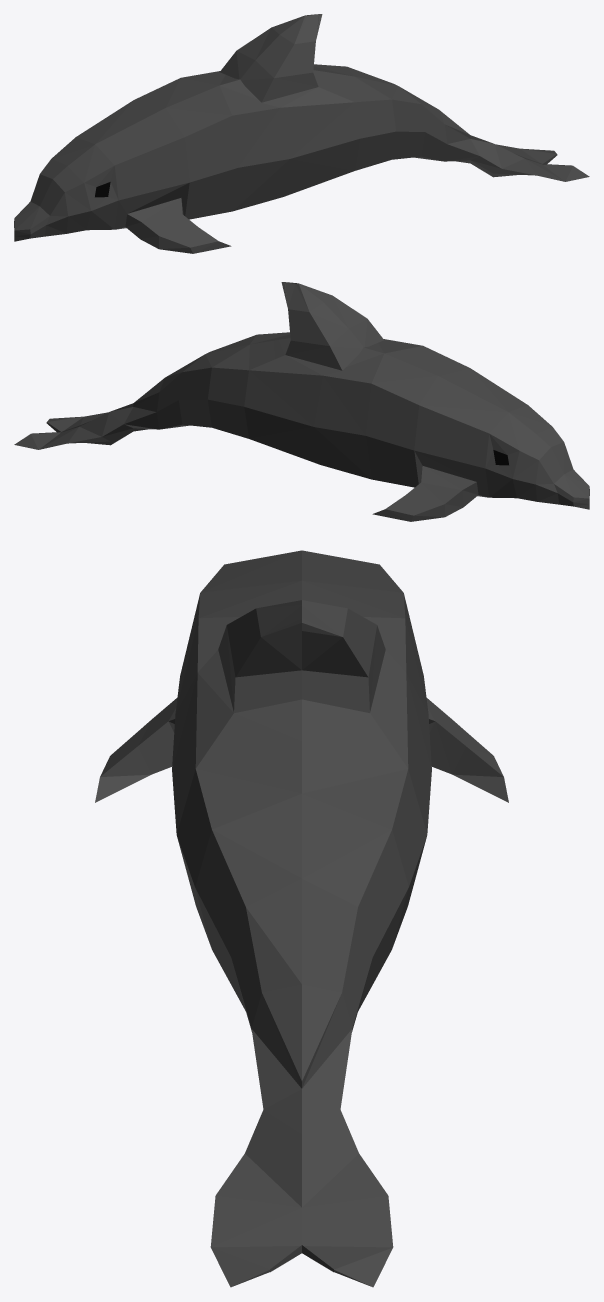
The model's file is Delfin2.fbx.
3 renders of one model, top to bottom at view 1: azimuth 30°, elevation 25°; view 2: azimuth 150°, elevation 25°; view 3: azimuth 270°, elevation 25°, orthographic. The views are drawn at different scales.
Parts seen in each view (by area): view 1: Cube.001; view 2: Cube.001; view 3: Cube.001.
Part boxes in pixels (left/top/right/bottom): Cube.001: left=14, top=14, right=589, bottom=253; Cube.001: left=14, top=282, right=589, bottom=521; Cube.001: left=95, top=550, right=508, bottom=1287.
Bounding box in the file's own units: 509 × 186 × 163.
Materials: 2 (1 with a texture image).
